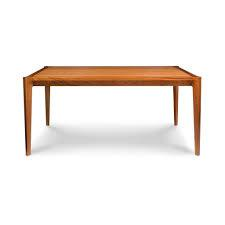desk: (12, 41, 211, 169)
